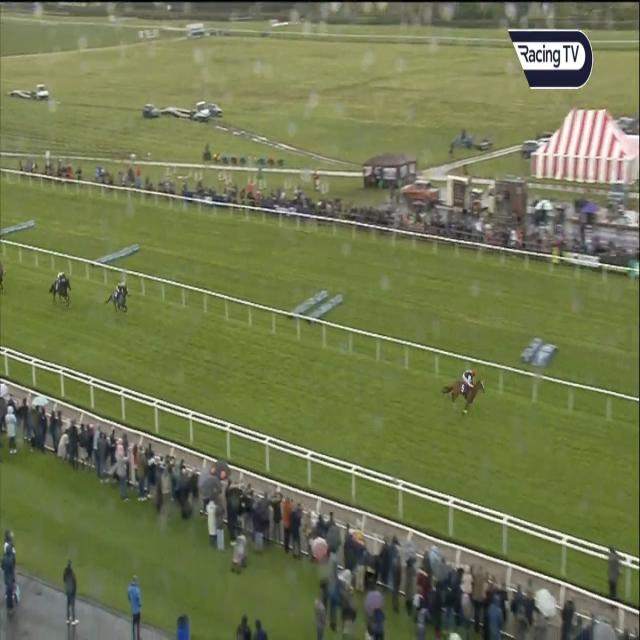horses-racing: (448, 363, 487, 417), (52, 262, 74, 316), (110, 281, 131, 313)
